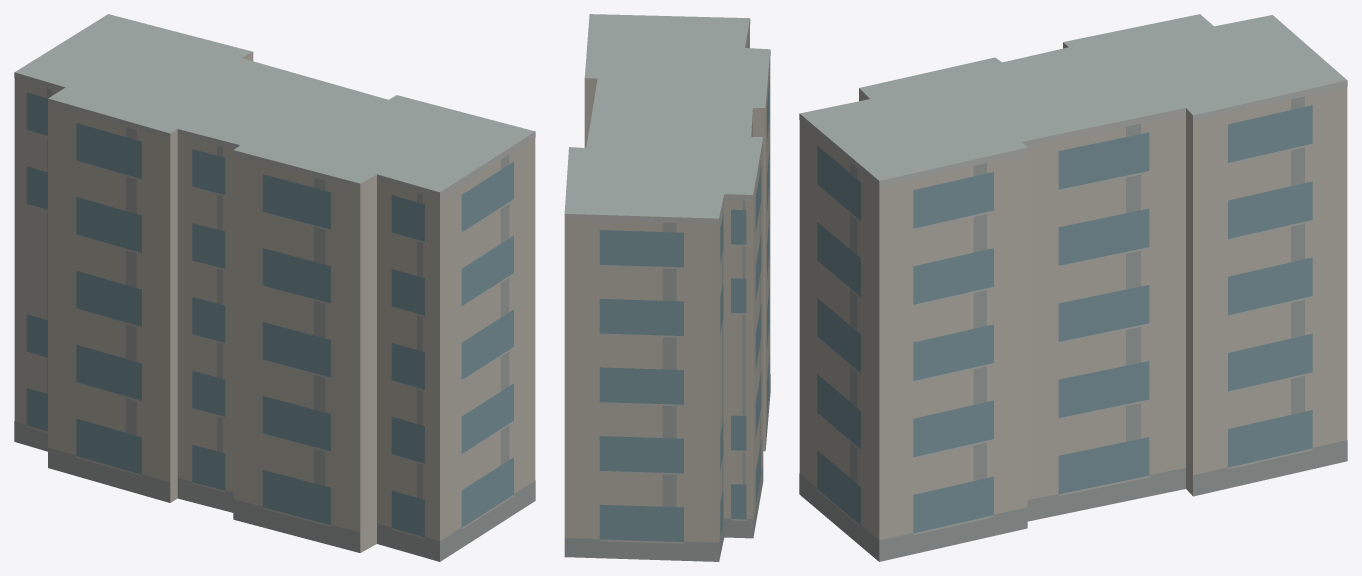
File: survey-upis-32829098.glb
The picture shows the model from 3 angles, left to right: view 1: azimuth 30°, elevation 25°; view 2: azimuth 150°, elevation 25°; view 3: azimuth 270°, elevation 25°; orthographic projection. The views are drawn at different scales.
Parts seen in each view (by area): view 1: survey-upis-32829098.tmp; view 2: survey-upis-32829098.tmp; view 3: survey-upis-32829098.tmp.
Part boxes in pixels (box(x1,y1,x2,y2)): survey-upis-32829098.tmp: box(14, 14, 535, 561); survey-upis-32829098.tmp: box(564, 14, 770, 561); survey-upis-32829098.tmp: box(799, 14, 1347, 561).
Size of the model in its own units: 13.64 by 14.5 by 18.91.
